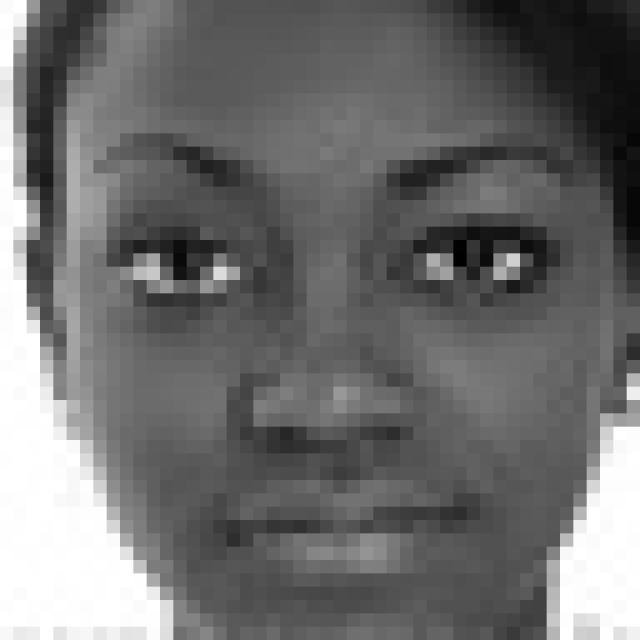neutral: (83, 129, 590, 592)
